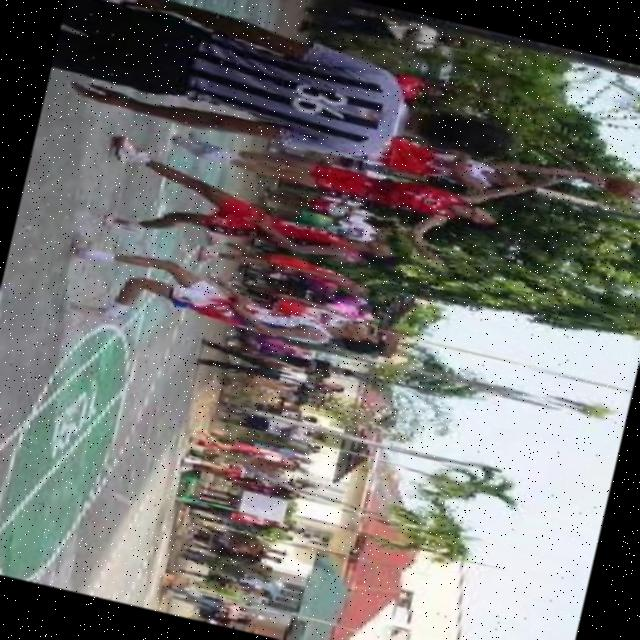ball: (593, 170, 640, 203)
